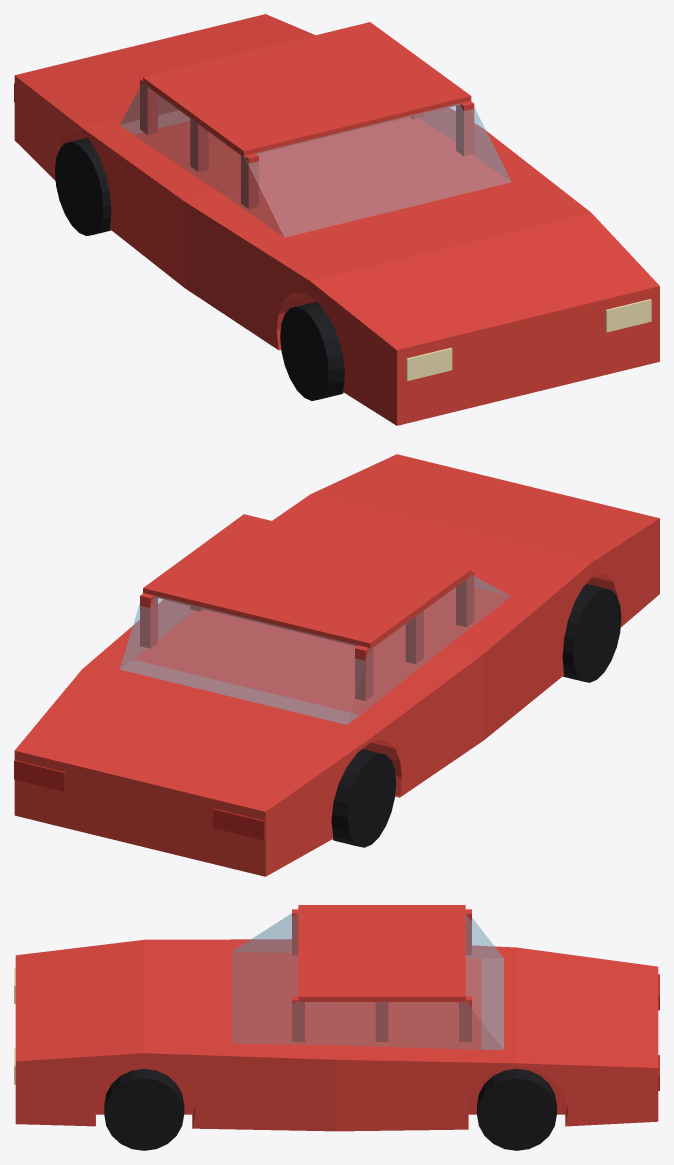
File: supercar.glb
3 renders of one model, top to bottom at view 1: azimuth 30°, elevation 25°; view 2: azimuth 150°, elevation 25°; view 3: azimuth 270°, elevation 25°, orthographic. The views are drawn at different scales.
Visible parts, largest first — view 1: body, cabin_glass, cabin_roof, wheel_FR_tyre, wheel_RR_tyre, head_L, head_R, pillar_front_R, pillar_front_L, pillar_mid_L, pillar_rear_L; view 2: body, cabin_glass, cabin_roof, wheel_RR_tyre, wheel_FR_tyre, tail_L, tail_R, pillar_rear_L, pillar_rear_R, pillar_front_L, pillar_mid_L; view 3: body, cabin_glass, cabin_roof, wheel_FL_tyre, wheel_RL_tyre, pillar_front_R, pillar_rear_R, pillar_mid_R.
Part boxes in pixels (x1=…): body: x1=14, y1=14, x2=659, y2=425; cabin_glass: x1=120, y1=83, x2=511, y2=237; cabin_roof: x1=143, y1=22, x2=471, y2=157; wheel_FR_tyre: x1=280, y1=302, x2=344, y2=400; wheel_RR_tyre: x1=55, y1=138, x2=111, y2=235; head_L: x1=406, y1=347, x2=452, y2=380; head_R: x1=605, y1=299, x2=651, y2=332; pillar_front_R: x1=456, y1=101, x2=474, y2=156; pillar_front_L: x1=241, y1=153, x2=258, y2=208; pillar_mid_L: x1=190, y1=118, x2=208, y2=171; pillar_rear_L: x1=140, y1=78, x2=157, y2=134; body: x1=14, y1=454, x2=659, y2=876; cabin_glass: x1=120, y1=574, x2=510, y2=724; cabin_roof: x1=143, y1=514, x2=471, y2=649; wheel_RR_tyre: x1=331, y1=749, x2=395, y2=847; wheel_FR_tyre: x1=562, y1=584, x2=621, y2=682; tail_L: x1=213, y1=808, x2=264, y2=840; tail_R: x1=14, y1=760, x2=65, y2=791; pillar_rear_L: x1=355, y1=645, x2=373, y2=700; pillar_rear_R: x1=140, y1=593, x2=157, y2=648; pillar_front_L: x1=456, y1=570, x2=474, y2=627; pillar_mid_L: x1=405, y1=610, x2=423, y2=663; body: x1=15, y1=939, x2=658, y2=1131; cabin_glass: x1=231, y1=913, x2=503, y2=1049; cabin_roof: x1=298, y1=905, x2=465, y2=1001; wheel_FL_tyre: x1=104, y1=1068, x2=184, y2=1150; wheel_RL_tyre: x1=477, y1=1069, x2=556, y2=1150; pillar_front_R: x1=292, y1=996, x2=304, y2=1041; pillar_rear_R: x1=459, y1=996, x2=471, y2=1041; pillar_mid_R: x1=375, y1=1002, x2=388, y2=1041.
Size of the model in its own units: 2 by 1.09 by 4.52.
